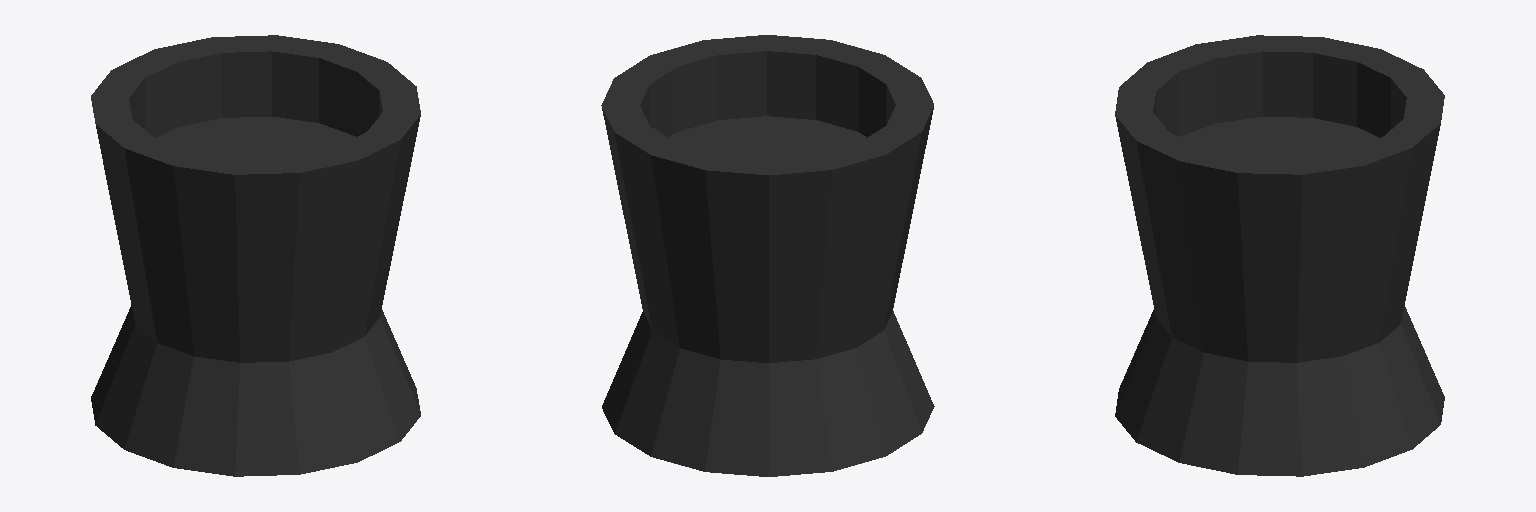
The model's file is vaso_cactus.obj.
3 renders of one model, left to right at view 1: azimuth 30°, elevation 25°; view 2: azimuth 150°, elevation 25°; view 3: azimuth 270°, elevation 25°, orthographic.
Parts seen in each view (by area): view 1: Cylinder; view 2: Cylinder; view 3: Cylinder.
Part boxes in pixels (left/top/right/bottom): Cylinder: left=91, top=35, right=420, bottom=476; Cylinder: left=601, top=35, right=934, bottom=476; Cylinder: left=1115, top=35, right=1444, bottom=476.
Bounding box in the file's own units: 1.29 × 1.3 × 1.29.